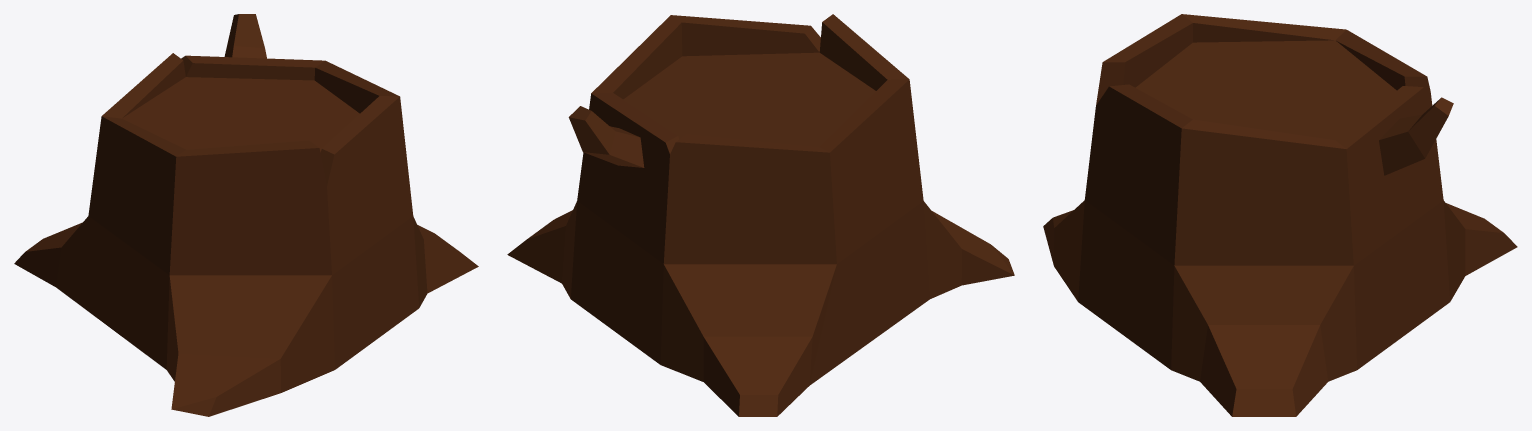
The model's file is trunk.fbx.
3 renders of one model, left to right at view 1: azimuth 30°, elevation 25°; view 2: azimuth 150°, elevation 25°; view 3: azimuth 270°, elevation 25°, orthographic. The views are drawn at different scales.
Parts seen in each view (by area): view 1: Circle; view 2: Circle; view 3: Circle.
Part boxes in pixels (x1,y1,x2,y2): Circle: (14, 14, 478, 416); Circle: (507, 14, 1014, 416); Circle: (1043, 14, 1517, 416).
Size of the model in its own units: 132 by 73.3 by 130.
